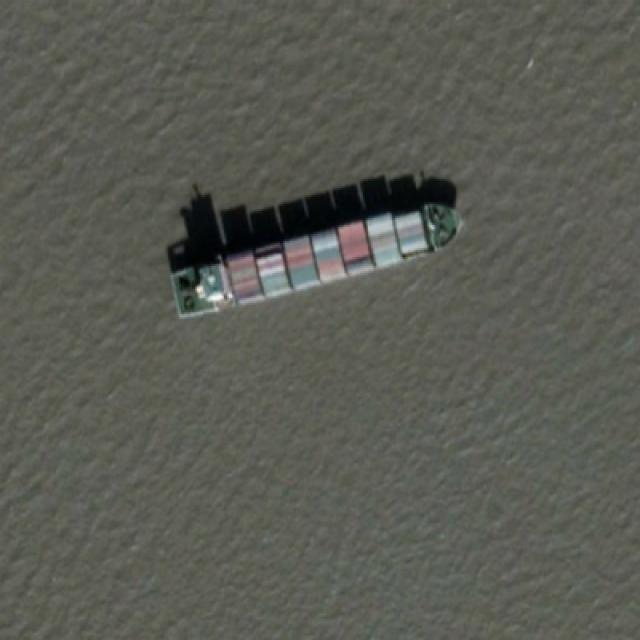boat: (165, 172, 464, 317)
